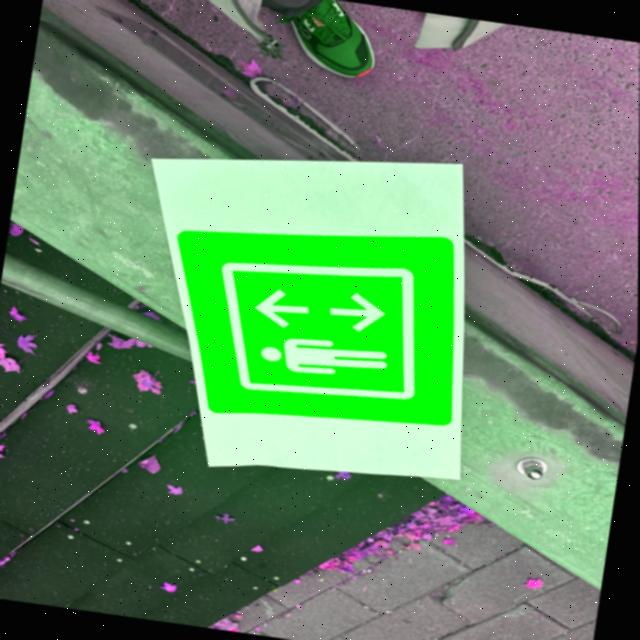elevator: (170, 232, 455, 424)
